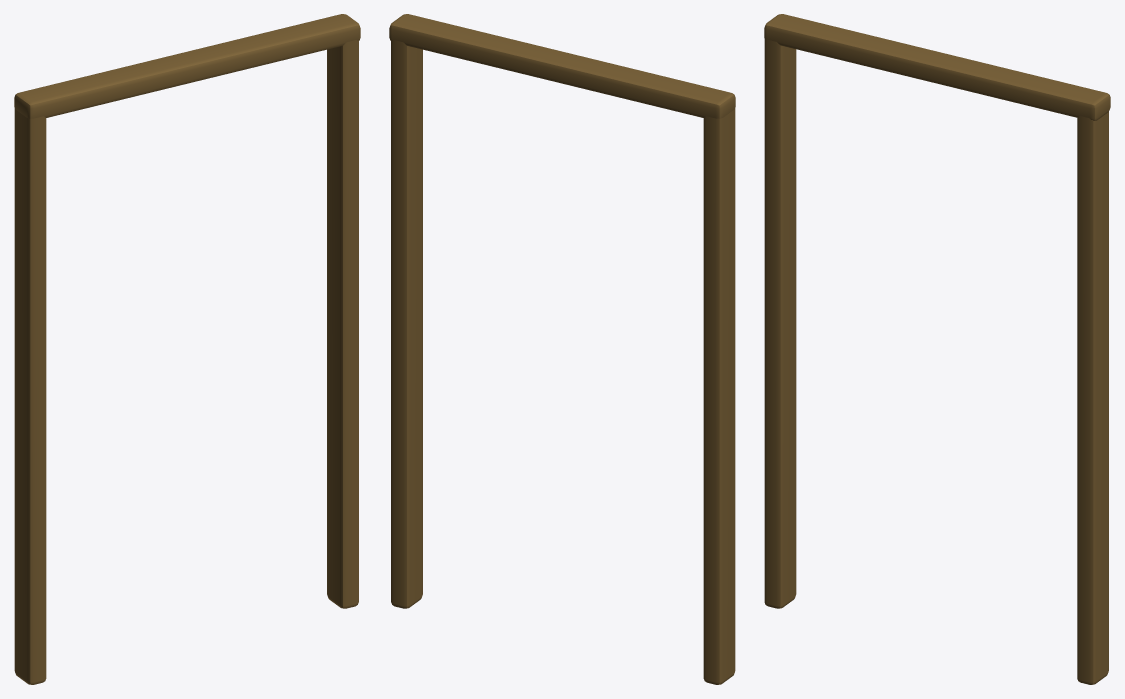
File: door_edge.fbx
3 renders of one model, left to right at view 1: azimuth 30°, elevation 25°; view 2: azimuth 150°, elevation 25°; view 3: azimuth 330°, elevation 25°, orthographic.
Parts seen in each view (by area): view 1: pCube5; view 2: pCube5; view 3: pCube5.
Part boxes in pixels (left/top/right/bottom): pCube5: left=14, top=14, right=360, bottom=684; pCube5: left=389, top=14, right=735, bottom=684; pCube5: left=764, top=14, right=1110, bottom=684.
Size of the model in its own units: 2.24 by 3.75 by 0.2016.
